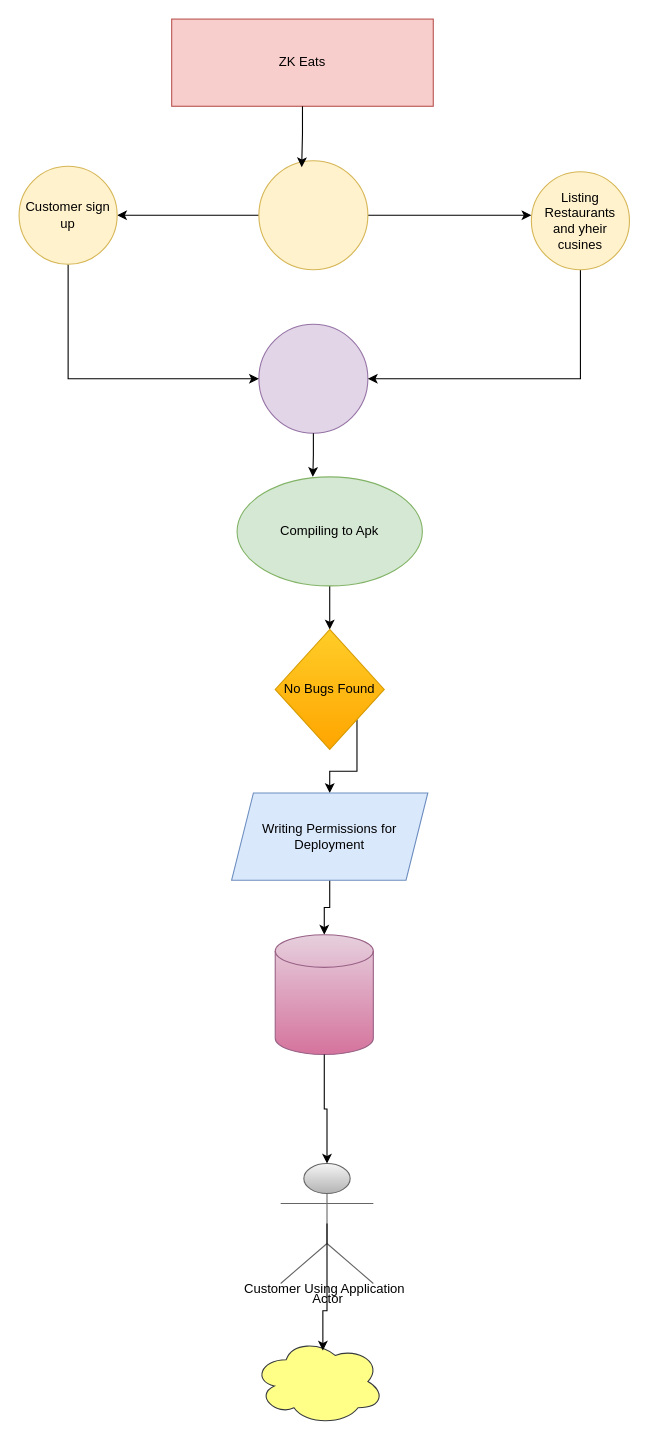
Some shapes in this 649 by 1444 pixel diagram are drawn without their labels. The centre of each missing label's shape, as x and y in pixels:
Checkout Pages & RTS: point 313,378
Desingning: point 313,215
Pushed to Appstore: point 323,994
Recieved No Feedback: point 318,1381
